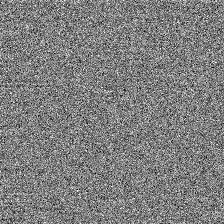cavities: (25, 69, 152, 121)
